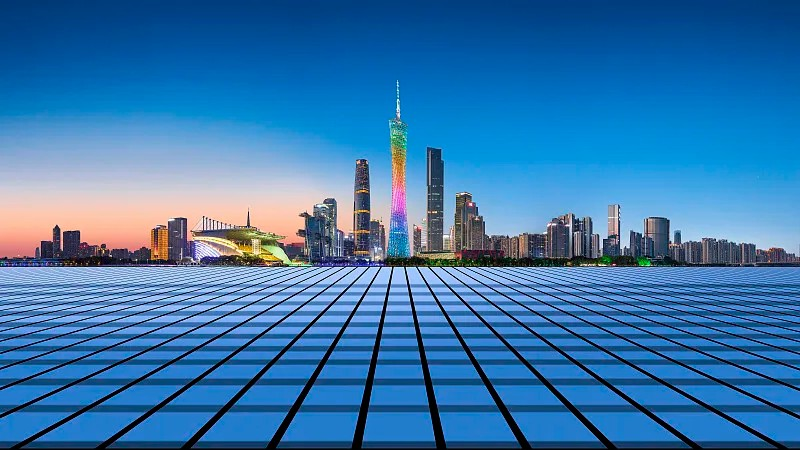Canton: (385, 81, 410, 259)
